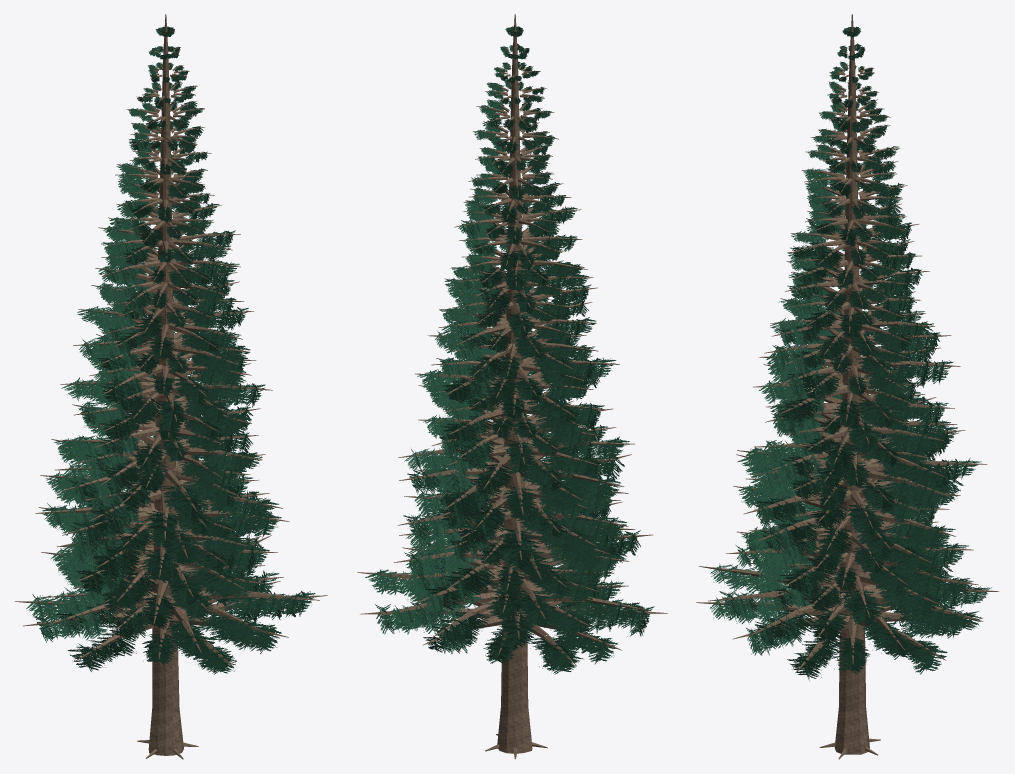
The model's file is fir.glb.
The picture shows the model from 3 angles, left to right: view 1: azimuth 30°, elevation 25°; view 2: azimuth 150°, elevation 25°; view 3: azimuth 270°, elevation 25°; orthographic projection.
Visible parts, largest first — view 1: VIS_NeedleCards_LOD0, VIS_Bark; view 2: VIS_NeedleCards_LOD0, VIS_Bark; view 3: VIS_NeedleCards_LOD0, VIS_Bark.
Part boxes in pixels (x1=…): VIS_NeedleCards_LOD0: x1=26, y1=26, x2=315, y2=674; VIS_Bark: x1=14, y1=14, x2=327, y2=759; VIS_NeedleCards_LOD0: x1=365, y1=26, x2=654, y2=674; VIS_Bark: x1=357, y1=14, x2=667, y2=759; VIS_NeedleCards_LOD0: x1=710, y1=26, x2=991, y2=680; VIS_Bark: x1=696, y1=14, x2=999, y2=759.
Bounding box in the file's own units: 6.71 × 17.8 × 6.69.
2 materials, 2 textured.
